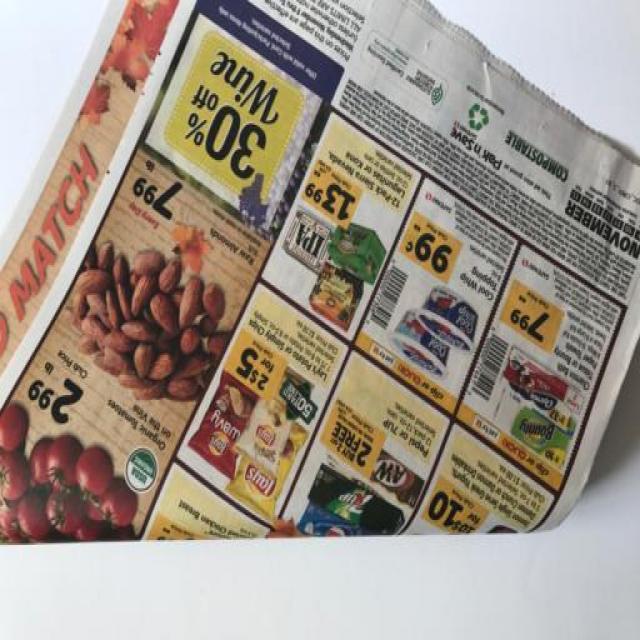paper: (1, 1, 640, 631)
